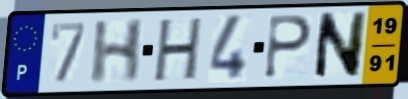4: (207, 12, 250, 85)
7: (48, 19, 88, 86)
H: (87, 17, 148, 87), (151, 15, 206, 85)
N: (311, 9, 370, 82)
P: (261, 14, 315, 81)
